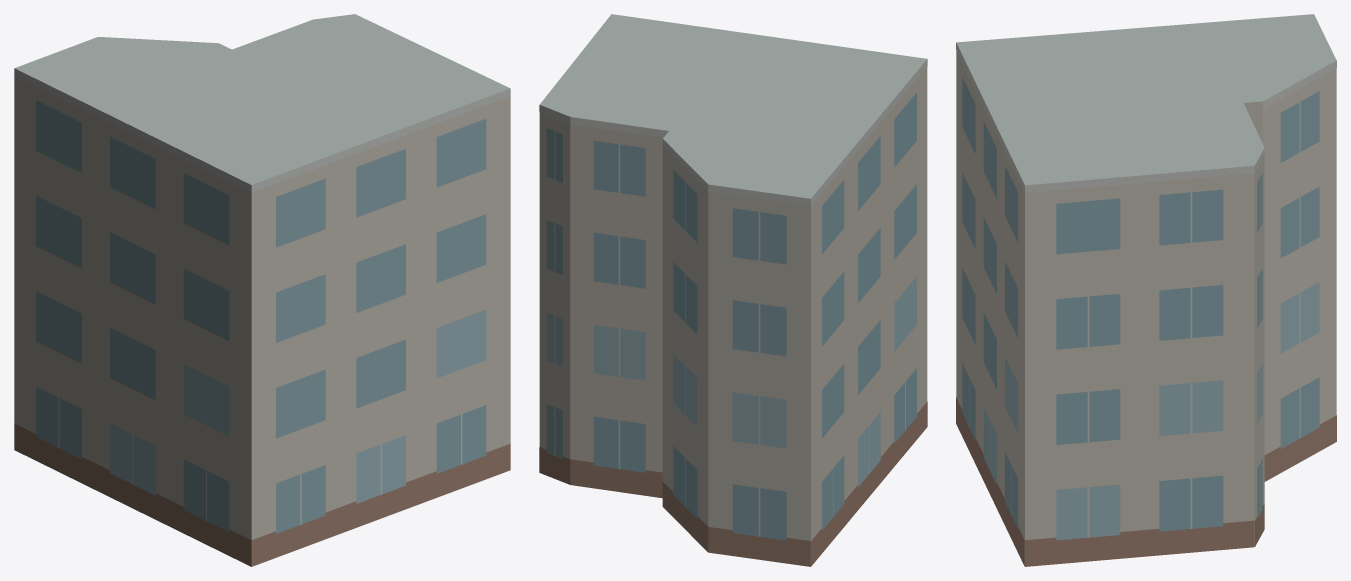
The model's file is survey-upis-33023594.glb.
The picture shows the model from 3 angles, left to right: view 1: azimuth 30°, elevation 25°; view 2: azimuth 150°, elevation 25°; view 3: azimuth 270°, elevation 25°; orthographic projection. The views are drawn at different scales.
Parts seen in each view (by area): view 1: survey-upis-33023594.tmp; view 2: survey-upis-33023594.tmp; view 3: survey-upis-33023594.tmp.
Part boxes in pixels (left/top/right/bottom): survey-upis-33023594.tmp: left=14, top=14, right=510, bottom=566; survey-upis-33023594.tmp: left=539, top=14, right=927, bottom=566; survey-upis-33023594.tmp: left=956, top=14, right=1336, bottom=566.
Bounding box in the file's own units: 11.77 × 12.2 × 11.04.
